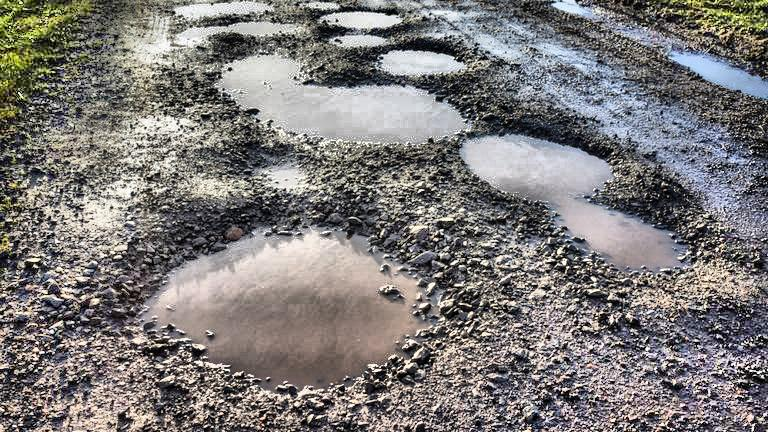pothole: (139, 218, 442, 404), (514, 196, 711, 284), (236, 79, 470, 149), (458, 133, 622, 196), (665, 47, 766, 103), (176, 21, 309, 44), (311, 11, 414, 31), (328, 32, 394, 51), (546, 3, 596, 20), (454, 32, 468, 38)
